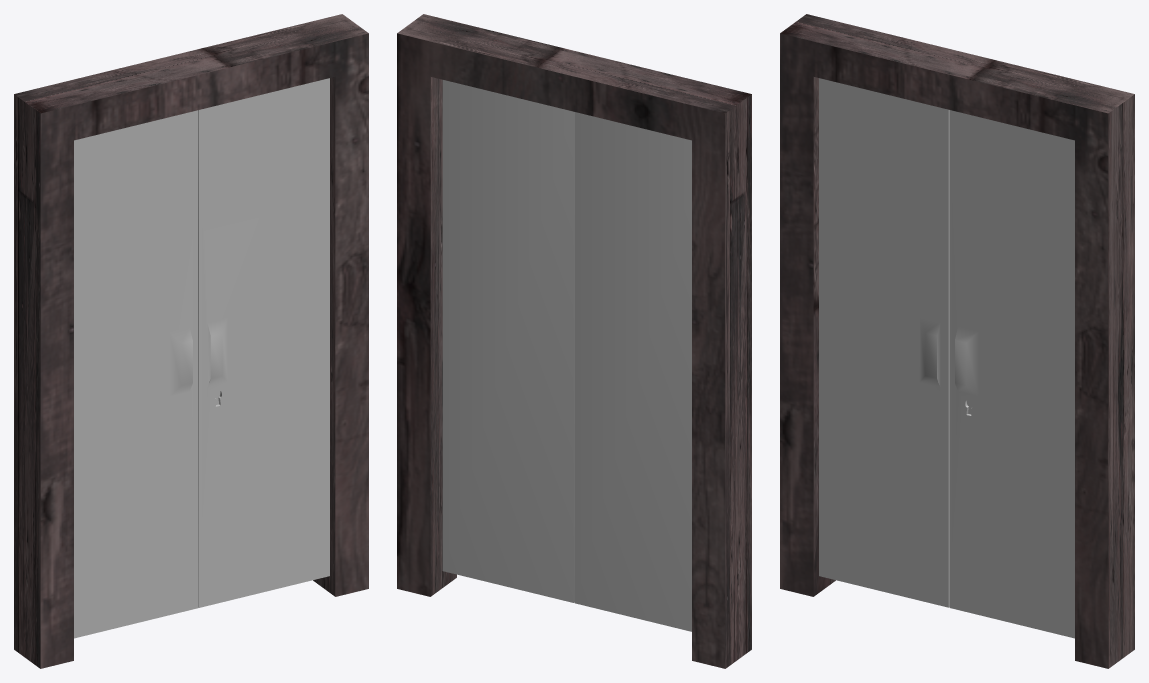
File: Door 4.fbx
3 views of the same model, side by side, from view 1: azimuth 30°, elevation 25°; view 2: azimuth 150°, elevation 25°; view 3: azimuth 330°, elevation 25° (orthographic).
Visible parts, largest first — view 1: Prefab_Door4_Frame, Prefab_DoorR4, Prefab_DoorL4; view 2: Prefab_Door4_Frame, Prefab_DoorR4, Prefab_DoorL4; view 3: Prefab_Door4_Frame, Prefab_DoorL4, Prefab_DoorR4.
Part boxes in pixels (<box>): Prefab_Door4_Frame: <box>14,14,368,668</box>; Prefab_DoorR4: <box>198,78,329,607</box>; Prefab_DoorL4: <box>74,110,198,638</box>; Prefab_Door4_Frame: <box>397,14,751,668</box>; Prefab_DoorR4: <box>442,80,574,602</box>; Prefab_DoorL4: <box>574,112,691,631</box>; Prefab_Door4_Frame: <box>780,14,1134,668</box>; Prefab_DoorL4: <box>819,78,949,607</box>; Prefab_DoorR4: <box>949,110,1074,638</box>.
Bounding box in the file's own units: 2.23 × 3.6 × 0.3111.
